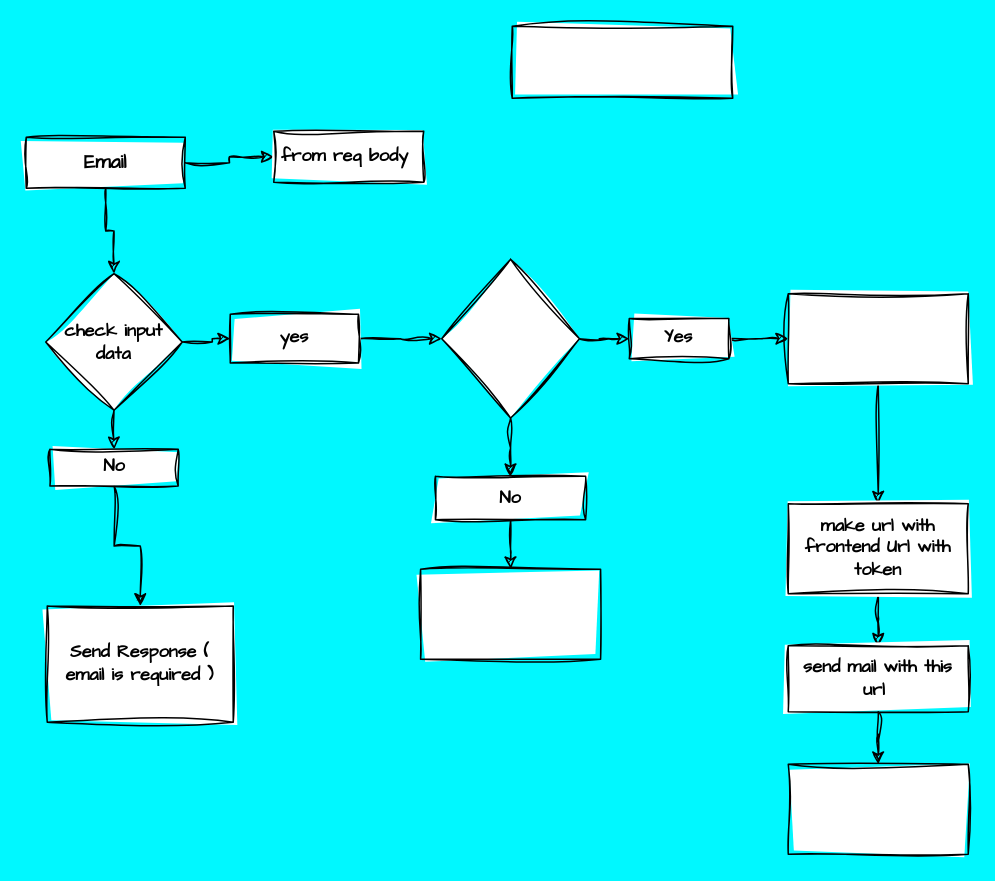
This 995x881 diagram has some shape labels left out. Here are the shapes that lost their labels. From the top down, the centre of each, then its label:
At pixel 622 61: "reset pasword Link".
At pixel 509 338: "check USER DB".
At pixel 877 338: "create token by crypto".
At pixel 510 613: "send response ( user not found )".
At pixel 877 808: "send resposne ( reset link send in emai;l".
